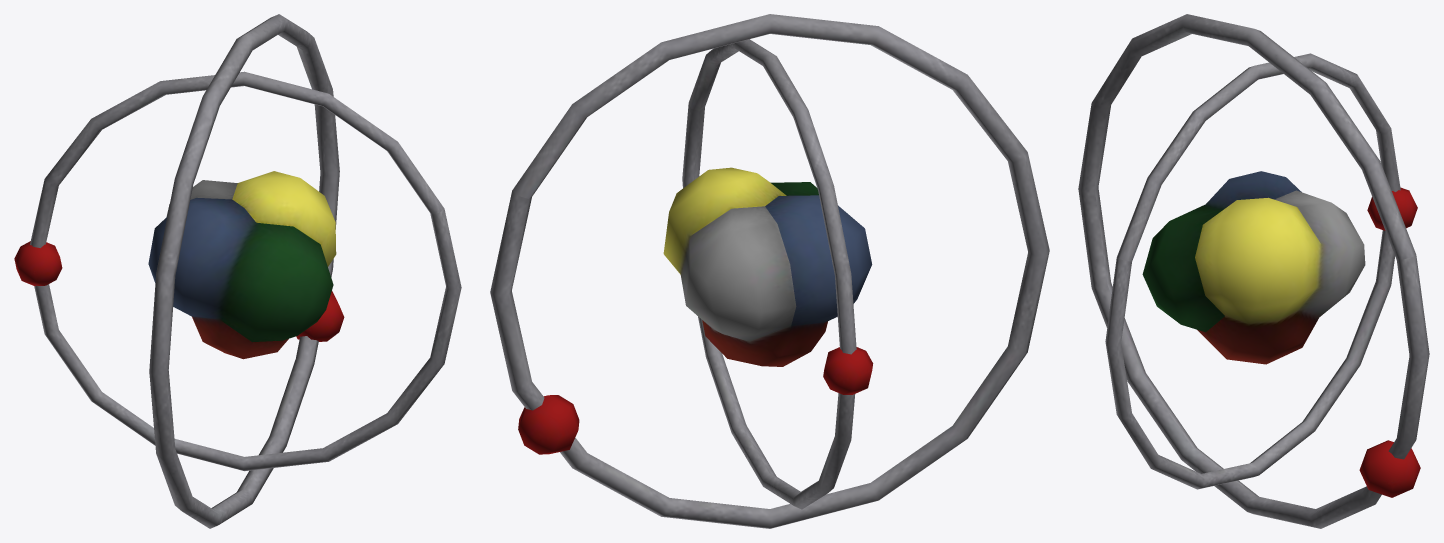
File: infotron_01.obj
The picture shows the model from 3 angles, left to right: view 1: azimuth 30°, elevation 25°; view 2: azimuth 150°, elevation 25°; view 3: azimuth 270°, elevation 25°; orthographic projection. The views are drawn at different scales.
Visible parts, largest first — view 1: unwrapped2, Object09, Object10, Object11, Object12; view 2: Object09, unwrapped2, Object10, Object12, Object11; view 3: unwrapped2, Object09, Object10, Object12, Object11.
Part boxes in pixels (<box>): unwrapped2: <box>148,171,336,359</box>; Object09: <box>149,14,339,528</box>; Object10: <box>30,71,461,471</box>; Object11: <box>14,241,62,286</box>; Object12: <box>296,291,344,341</box>; Object09: <box>490,14,1049,528</box>; unwrapped2: <box>663,167,872,366</box>; Object10: <box>682,39,856,509</box>; Object12: <box>518,395,579,454</box>; Object11: <box>823,347,873,394</box>; unwrapped2: <box>1142,171,1365,364</box>; Object09: <box>1078,14,1429,528</box>; Object10: <box>1105,53,1400,489</box>; Object12: <box>1359,440,1420,497</box>; Object11: <box>1367,187,1417,230</box>.
Bounding box in the file's own units: 27.27 × 35.32 × 23.15.
1 material, 1 textured.
